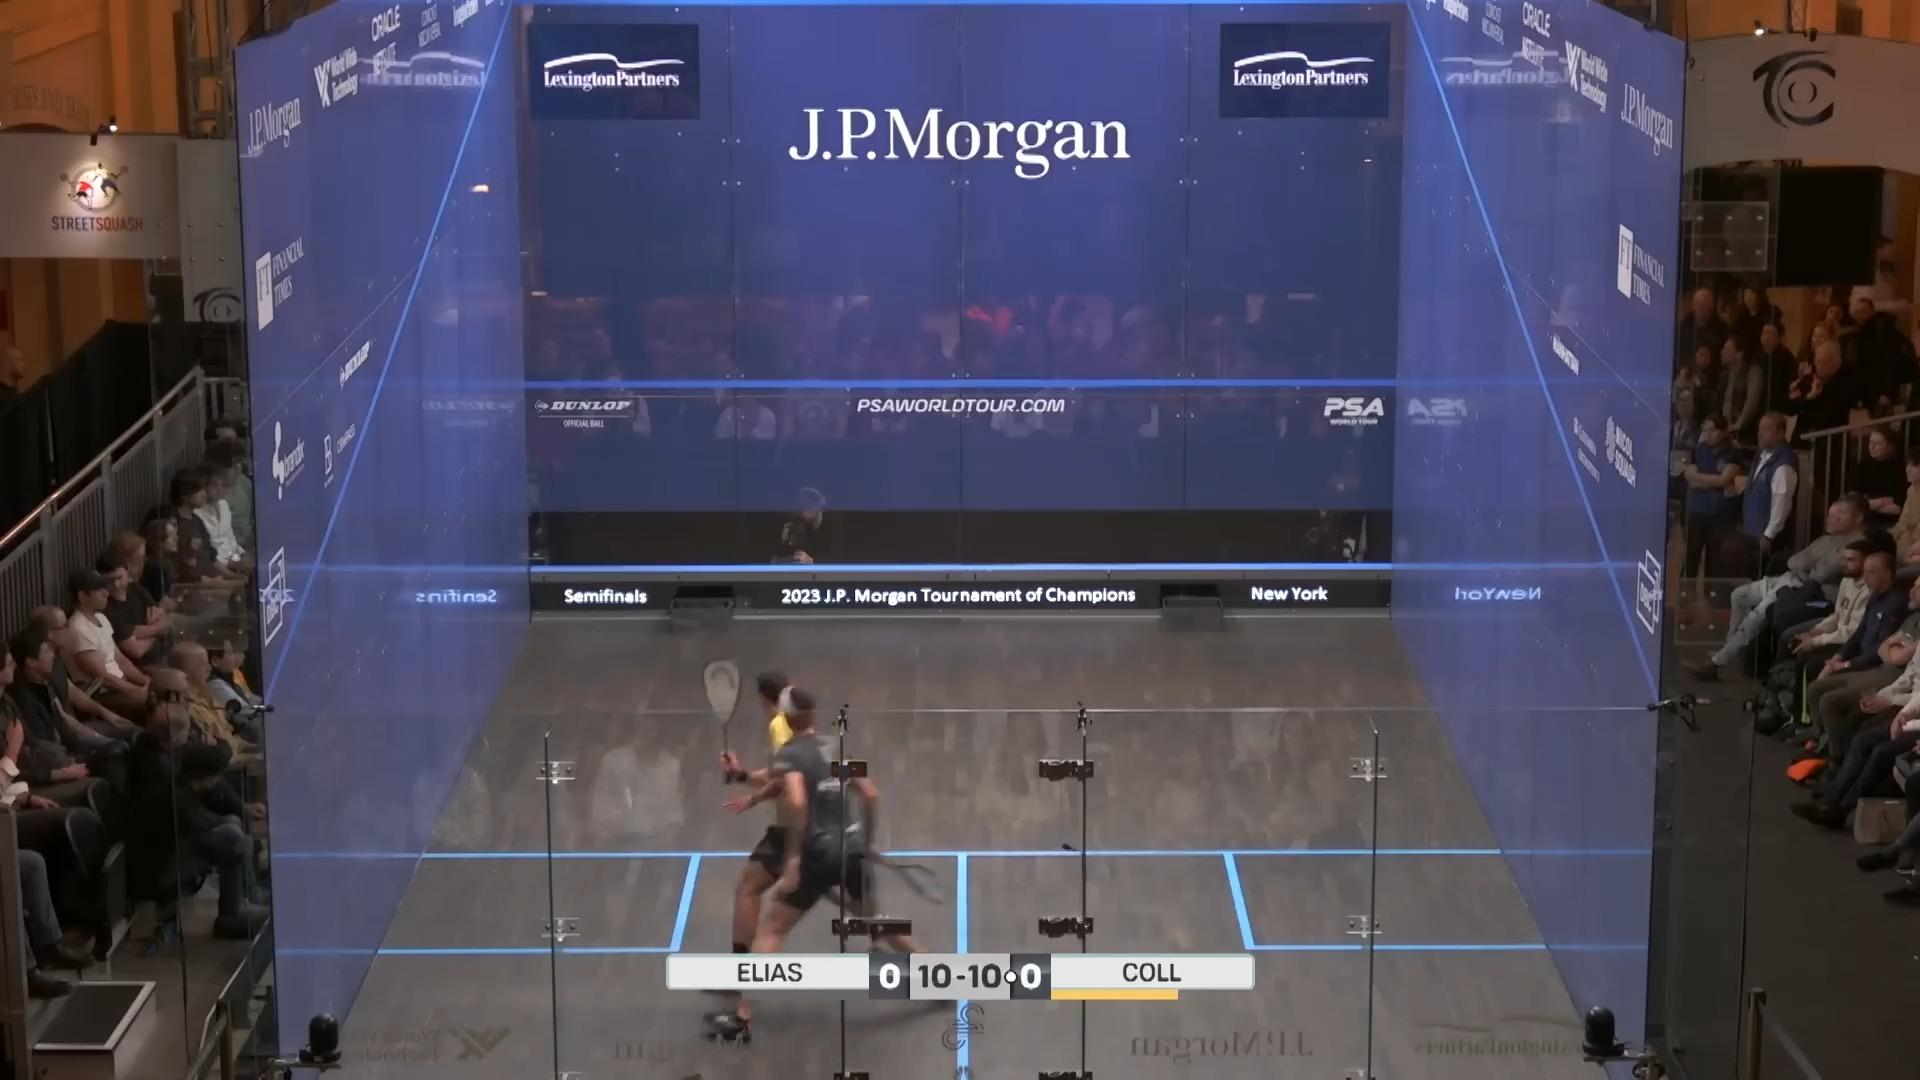Racket: (696, 650, 746, 782), (872, 844, 957, 915)
